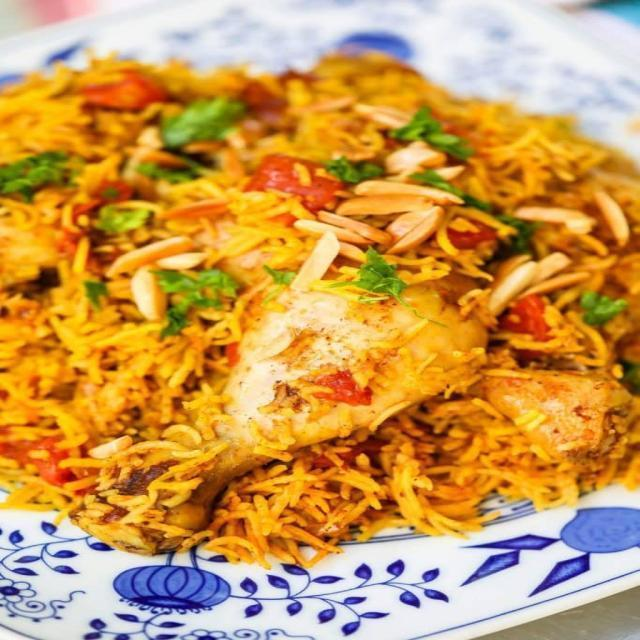kabsa: (12, 71, 628, 514)
